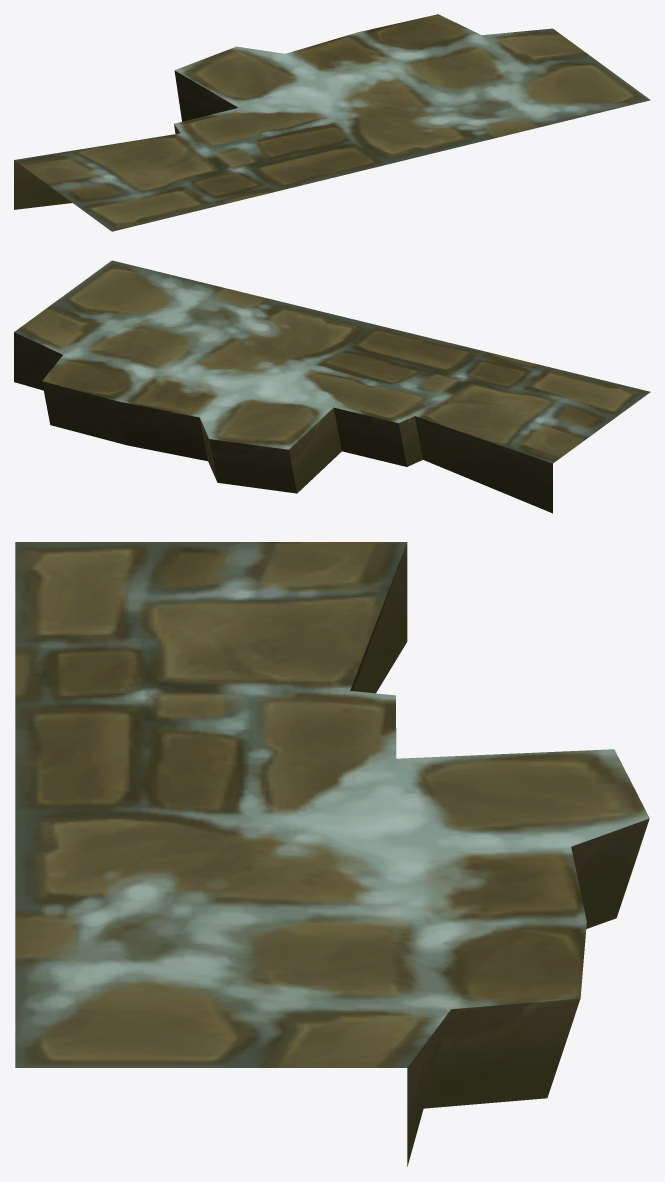
The model's file is tundra_floor_cobble_hole_01.fbx.
3 views of the same model, one above another, from view 1: azimuth 30°, elevation 25°; view 2: azimuth 150°, elevation 25°; view 3: azimuth 270°, elevation 25° (orthographic). The views are drawn at different scales.
Visible parts, largest first — view 1: obj0.159; view 2: obj0.159; view 3: obj0.159.
Boxes of the visible parts, bbox=[...] form: obj0.159: bbox=[14, 14, 650, 231]; obj0.159: bbox=[14, 260, 650, 513]; obj0.159: bbox=[15, 542, 649, 1166].
Size of the model in its own units: 4 by 0.3539 by 2.04.
